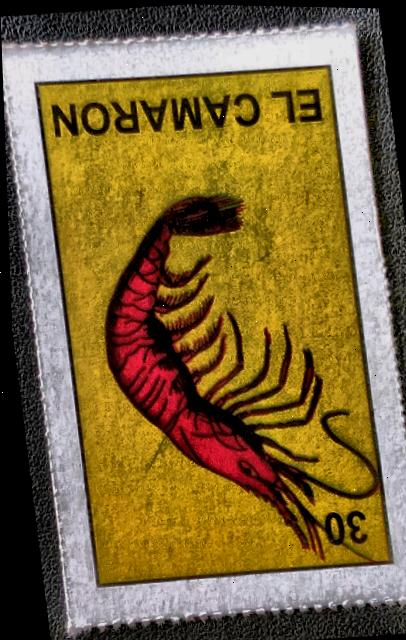El Camaron: (7, 32, 406, 614)
